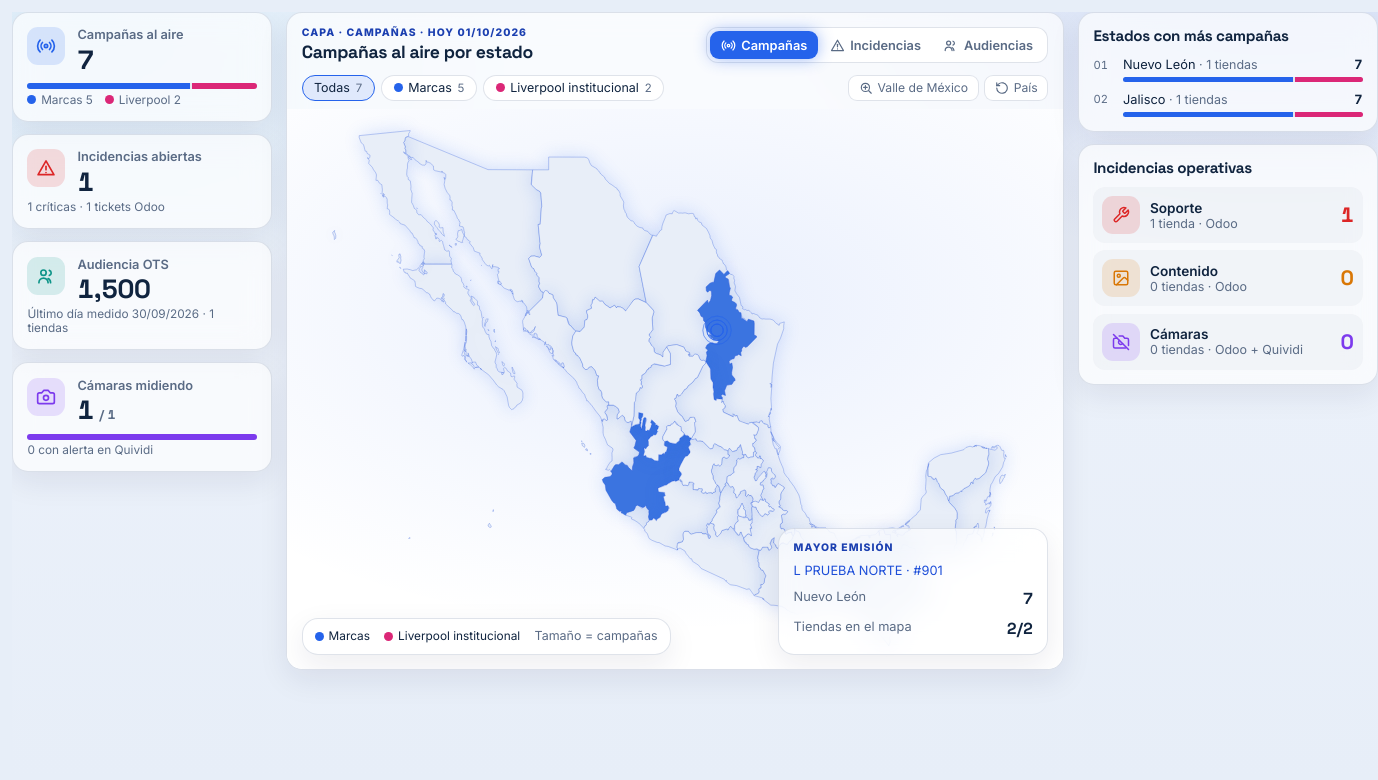
Centro de Control › ranking de estados cambia con la capa
Expected: the heading "Estados con más campañas" is shown, [1093,26,1289,45]
What coordinates should you click on to do the following:
click the button "Audiencias"
I would click on:
 (988, 45)
Its box is [932,31,1044,59].
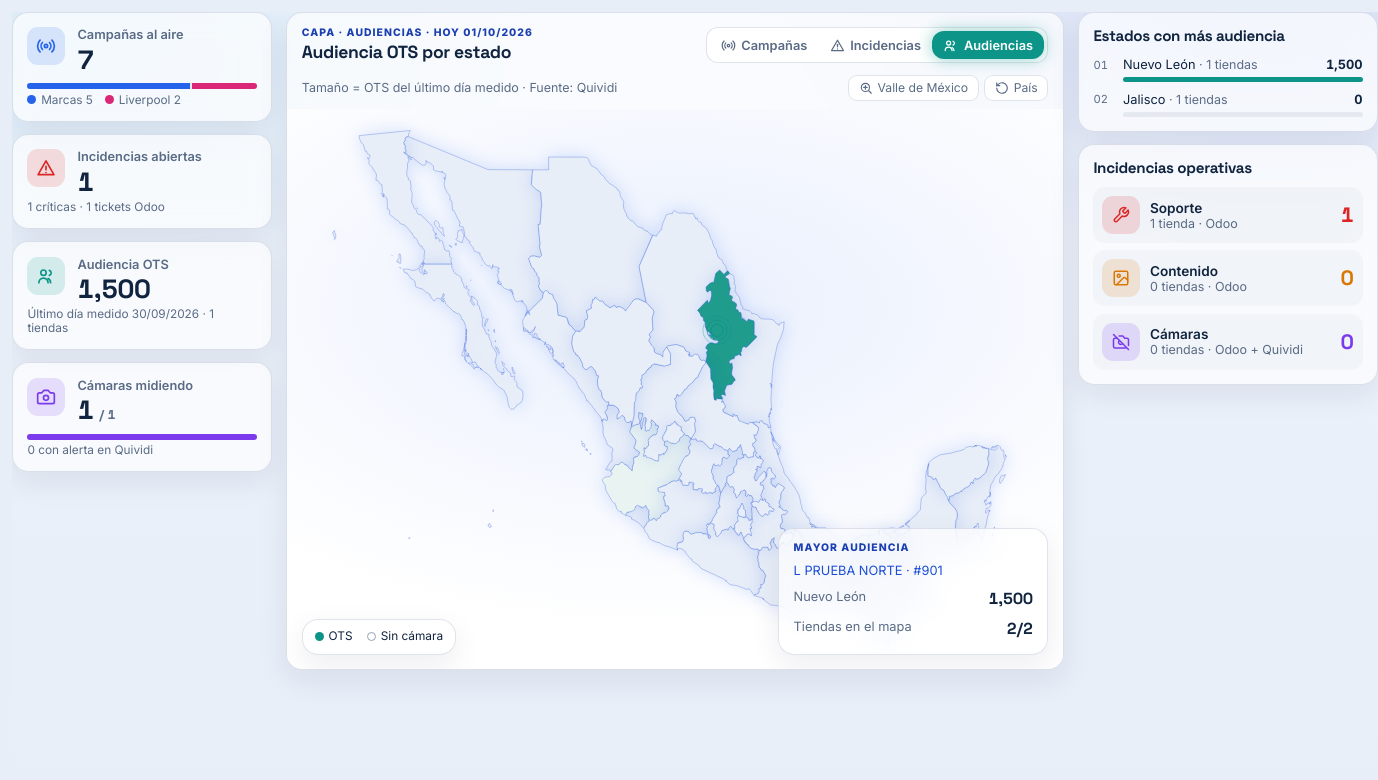
Expected: the heading "Estados con más audiencia" is shown, [1093,26,1285,45]
